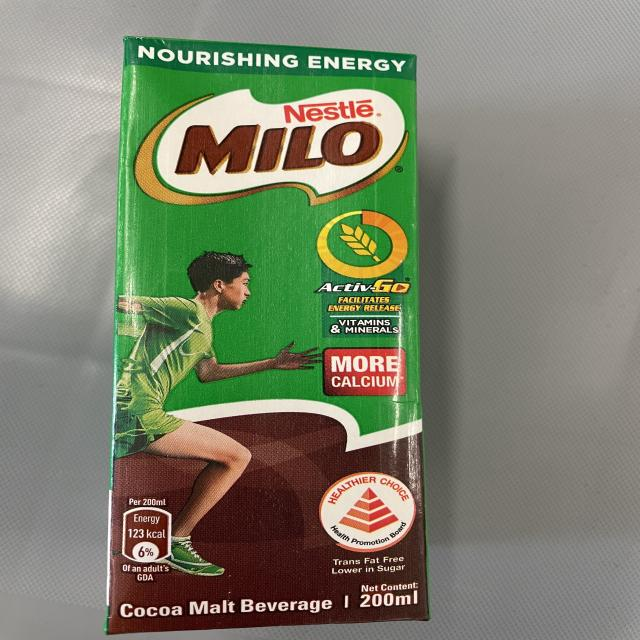object_name: (118, 34, 428, 626)
